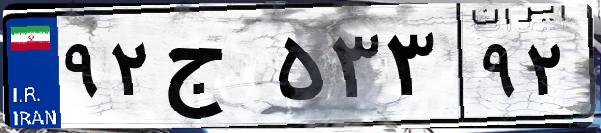2: (525, 38, 570, 115), (110, 28, 158, 98)
3: (385, 28, 445, 110), (330, 28, 385, 110)
5: (270, 28, 330, 110)
9: (57, 26, 110, 100), (475, 38, 525, 113)
ج: (158, 20, 270, 120)
